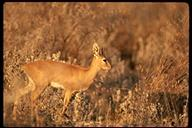antelope: (11, 41, 113, 122)
grass: (115, 49, 186, 124)
